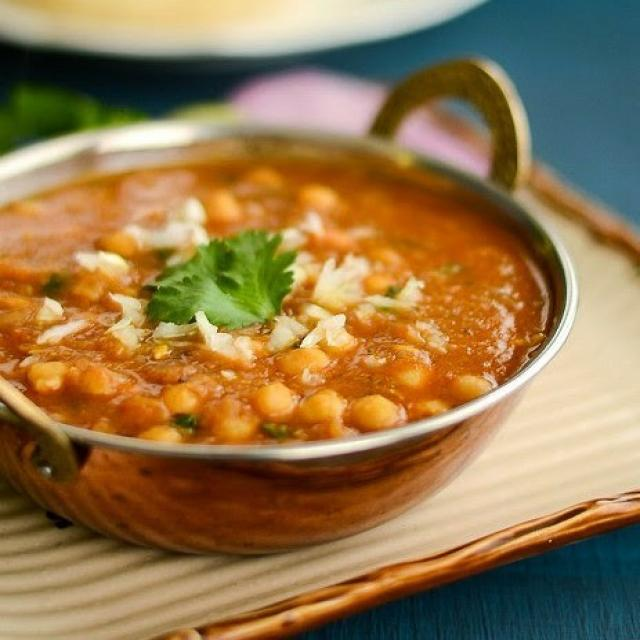Chole: (0, 161, 552, 446)
